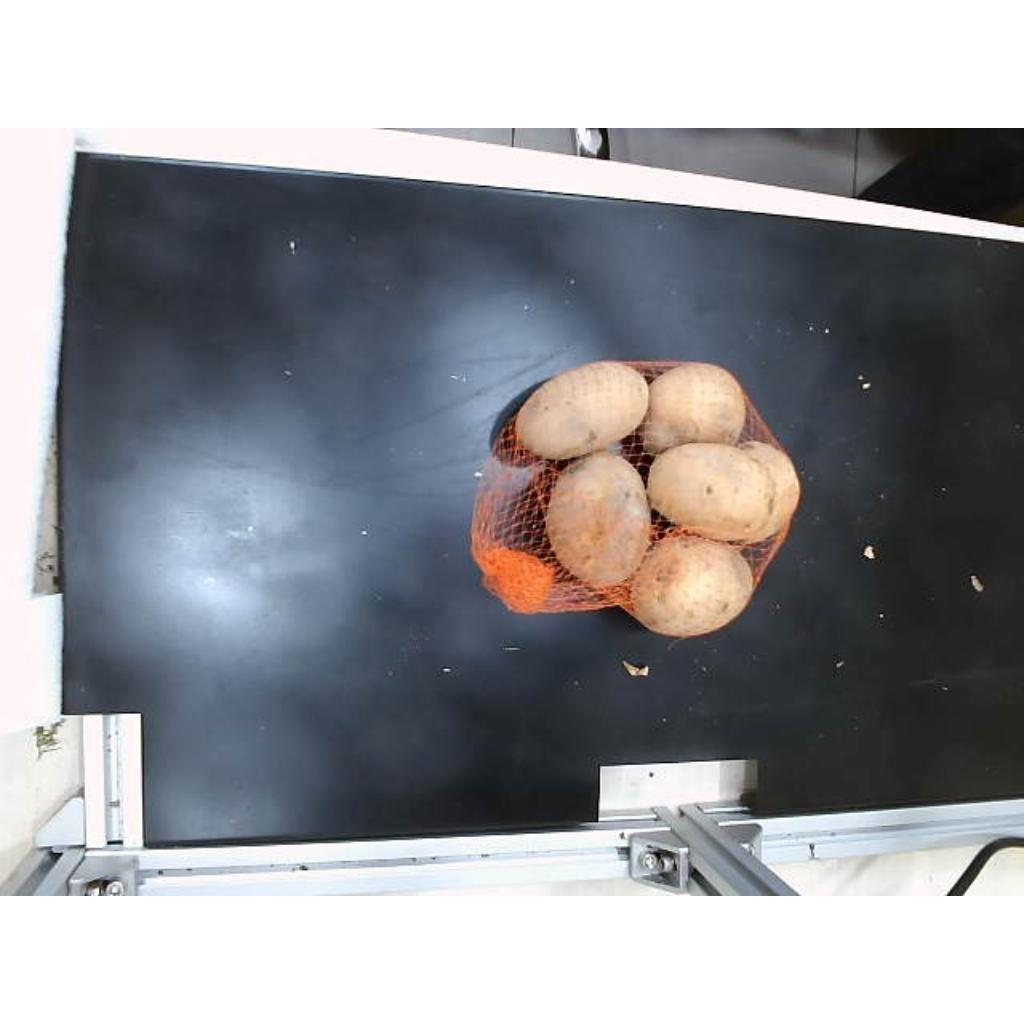potato: (546, 452, 650, 587), (516, 362, 648, 459), (646, 442, 774, 539), (632, 536, 754, 637), (644, 362, 746, 452), (738, 440, 800, 541)
